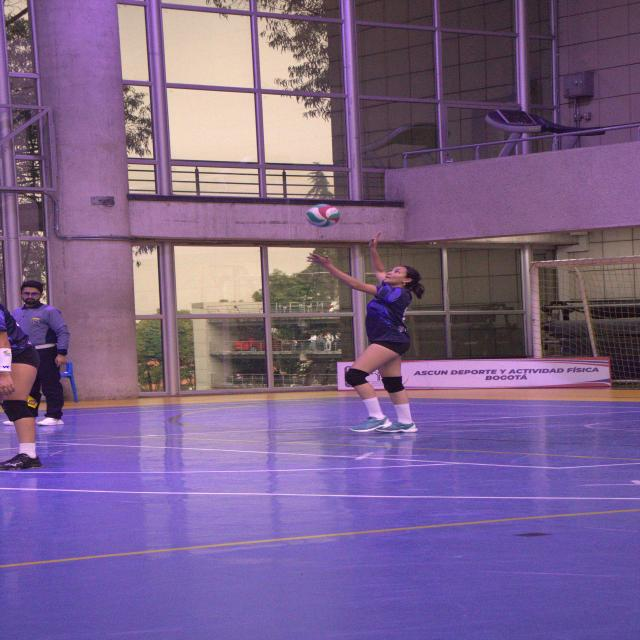volleyball: (304, 204, 341, 228)
